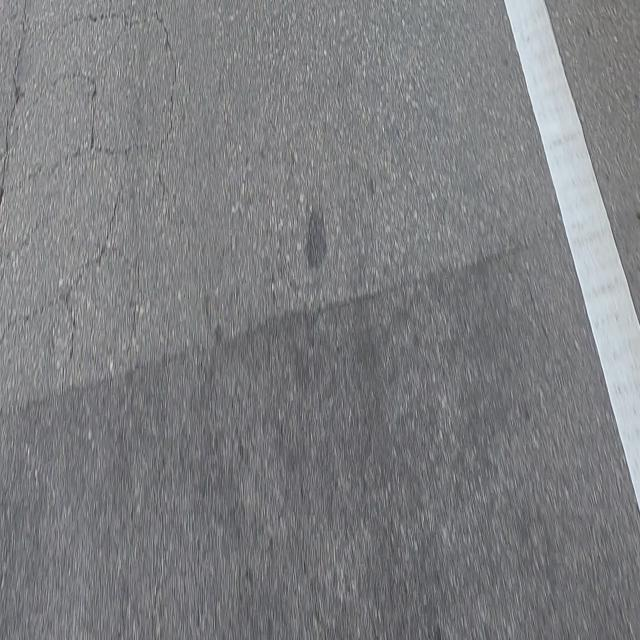Retak-Buaya: (0, 0, 180, 412)
